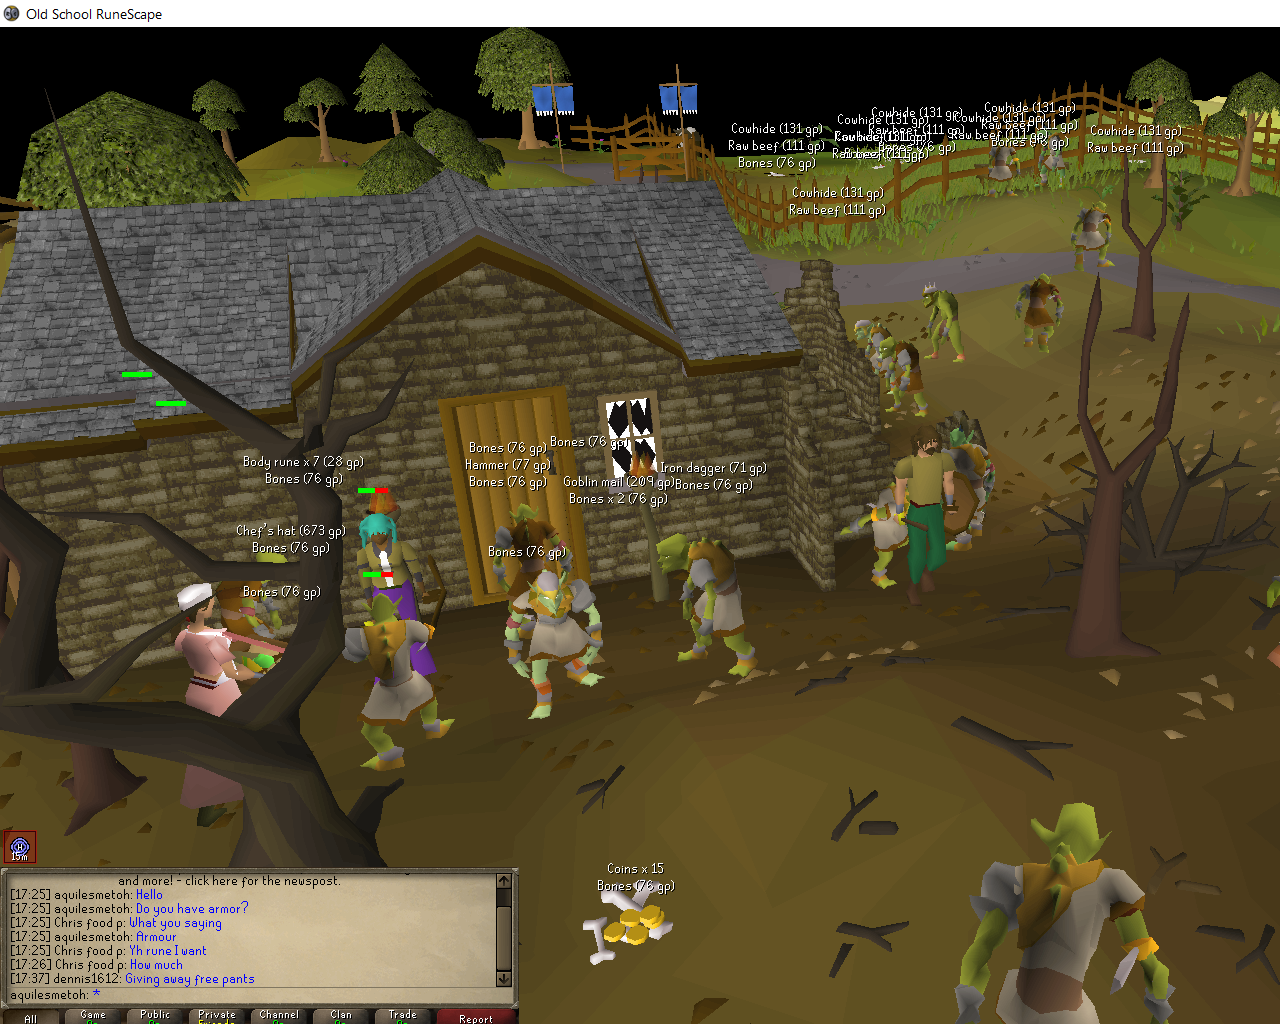Goblin: (924, 777, 1204, 1024), (335, 591, 465, 774), (495, 571, 627, 727), (651, 529, 777, 685), (202, 543, 302, 670), (837, 486, 935, 591), (489, 503, 571, 619), (1013, 272, 1069, 356), (880, 338, 932, 418), (1068, 201, 1122, 274), (923, 284, 971, 364), (855, 316, 902, 396)
